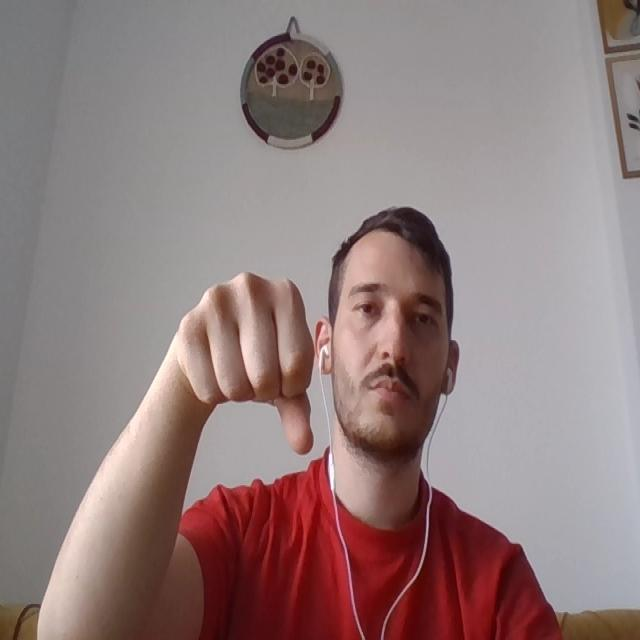yes: (180, 277, 314, 436)
